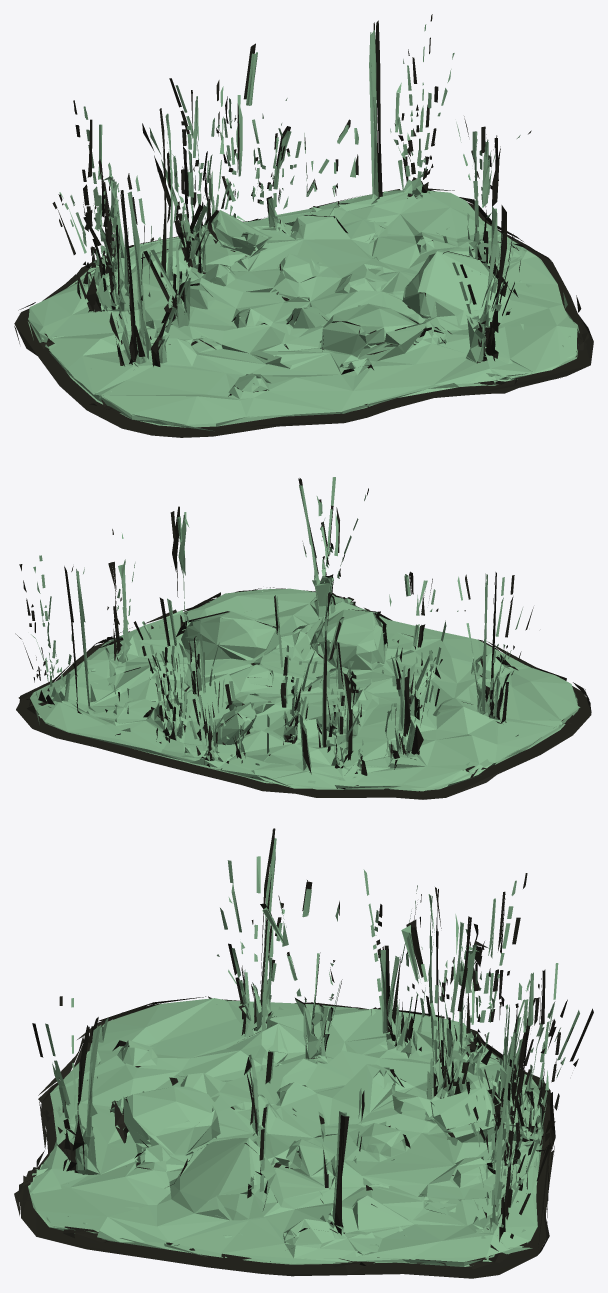
The model's file is df_v2_water_edge_decor_c_a.glb.
3 renders of one model, top to bottom at view 1: azimuth 30°, elevation 25°; view 2: azimuth 150°, elevation 25°; view 3: azimuth 270°, elevation 25°, orthographic. The views are drawn at different scales.
Visible parts, largest first — view 1: water_edge_decor_c_mesh_01, water_edge_decor_c_mesh_01_ink_outline; view 2: water_edge_decor_c_mesh_01, water_edge_decor_c_mesh_01_ink_outline; view 3: water_edge_decor_c_mesh_01, water_edge_decor_c_mesh_01_ink_outline.
Boxes of the visible parts, left/top/right/bottom form: water_edge_decor_c_mesh_01: left=28, top=24, right=579, bottom=431; water_edge_decor_c_mesh_01_ink_outline: left=14, top=14, right=593, bottom=437; water_edge_decor_c_mesh_01: left=30, top=477, right=580, bottom=791; water_edge_decor_c_mesh_01_ink_outline: left=15, top=478, right=591, bottom=799; water_edge_decor_c_mesh_01: left=28, top=838, right=579, bottom=1266; water_edge_decor_c_mesh_01_ink_outline: left=14, top=828, right=593, bottom=1278.
Bounding box in the file's own units: 0.9462 × 0.342 × 0.8406.
